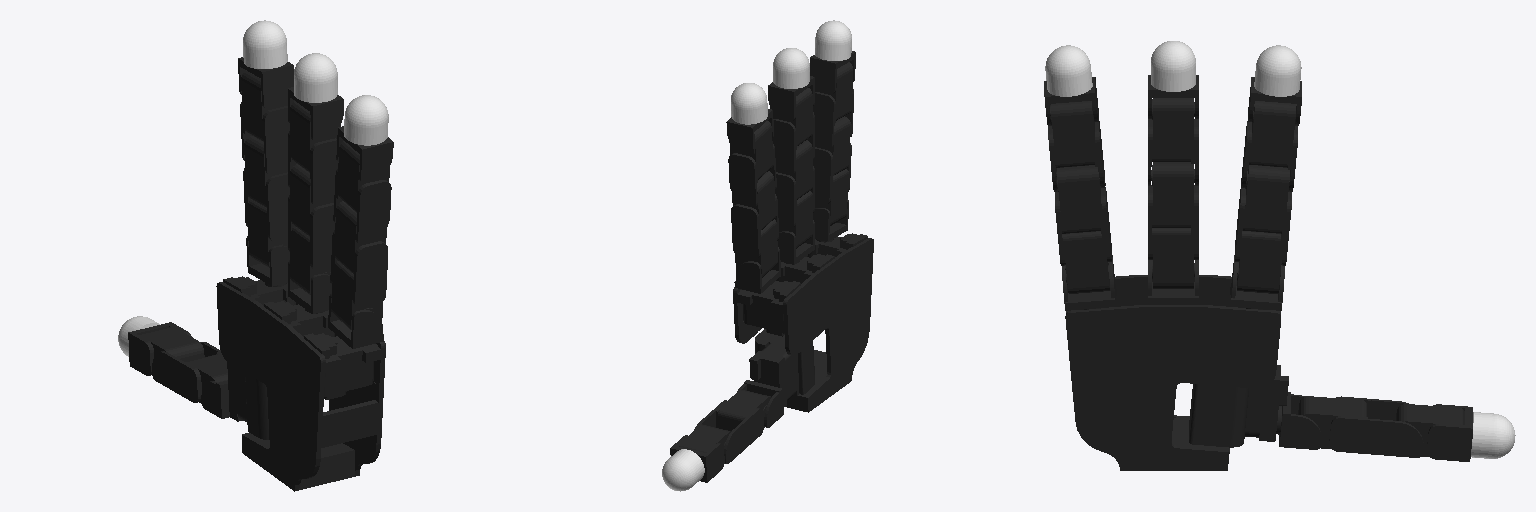
URDF robot description (allegro):
<?xml version="1.0" ?>
<!-- =================================================================================== -->
<!-- |    This document was autogenerated by xacro from allegro_hand_description_right.xacro | -->
<!-- |    EDITING THIS FILE BY HAND IS NOT RECOMMENDED                                 | -->
<!-- =================================================================================== -->
<robot name="allegro" xmlns:xacro="http:/www.ros.org/wiki/xacro">
  <!-- ======================== BASE PARAMS ========================= -->
  <!-- ======================== FINGER PARAMS ======================== -->
  <!-- full height from joint to tip. when used,
    the radius of the finger tip sphere will be subtracted
    and one fixed link will be added for the tip. -->
  <!-- ========================= THUMB PARAMS ========================= -->
  <!-- ========================= LIMITS ========================= -->
  <!-- ============================================================================= -->
  <!-- PALM -->
  <link name="palm_link">
    <visual>
      <geometry>
        <mesh filename="meshes/base_link.obj"/>
      </geometry>
      <origin rpy="0 0 0" xyz="0 0 0 "/>
      <material name="black">
        <color rgba="0.2 0.2 0.2 1"/>
      </material>
    </visual>
    <!-- <collision>
      <origin rpy="0 0 0" xyz="-0.009300 0 -0.0475"/>
      <geometry>
        <box size="0.0408 0.1130 0.095"/>
      </geometry>
    </collision> -->
    <inertial>
      <origin rpy="0 0 0" xyz="0 0 0.0475"/>
      <mass value="0.4154"/>
      <inertia ixx="1e-4" ixy="0.0" ixz="0.0" iyy="1e-4" iyz="0.0" izz="1e-4"/>
    </inertial>
  </link>
  <!-- ============================================================================= -->
  <!-- FINGERS -->
  <!-- RIGHT HAND due to which finger is number 0 -->
  <!-- for LEFT HAND switch the sign of the **offset_origin_y** and **finger_angle_r** parameters-->
  <!-- [LINK 0, 4, 8] -->
  <link name="link_0.0">
    <visual>
      <geometry>
        <mesh filename="meshes/link_0.0.obj"/>
      </geometry>
      <material name="black"/>
    </visual>
    <!-- <collision>
      <geometry>
        <box size="0.0196 0.0275 0.0164"/>
      </geometry>
      <origin rpy="0 0 0" xyz="0 0 0.0082"/>
    </collision> -->
    <inertial>
      <mass value="0.0119"/>
      <origin rpy="0 0 0" xyz="0 0 0"/>
      <inertia ixx="1.01666658333e-06" ixy="0.0" ixz="0.0" iyy="6.47677333333e-07" iyz="0.0" izz="1.01666658333e-06"/>
    </inertial>
  </link>
  <joint name="joint_0.0" type="revolute">
    <axis xyz="0 0 1"/>
    <limit effort="15" lower="-0.47" upper="0.47" velocity="7"/>
    <parent link="palm_link"/>
    <child link="link_0.0"/>
    <origin rpy="-0.08726646255 0 0" xyz="0 0.0435 -0.001542"/>
    <dynamics damping="3" friction="10"/>
  </joint>
  <!-- [LINK 1, 5, 9] -->
  <link name="link_1.0">
    <visual>
      <geometry>
        <mesh filename="meshes/link_1.0.obj"/>
      </geometry>
      <material name="black"/>
    </visual>
    <!-- <collision>
      <geometry>
        <box size="0.0196 0.0275 0.054"/>
      </geometry>
      <origin rpy="0 0 0" xyz="0 0 0.027"/>
    </collision> -->
    <inertial>
      <mass value="0.065"/>
      <origin rpy="0 0 0" xyz="0 0 0"/>
      <inertia ixx="7.95654166667e-05" ixy="1.7199e-05" ixz="8.75875e-06" iyy="2.47088833333e-05" iyz="2.413125e-05" izz="7.95654166667e-05"/>
    </inertial>
  </link>
  <joint name="joint_1.0" type="revolute">
    <limit effort="15" lower="-0.196" upper="1.61" velocity="7"/>
    <axis xyz="0 1 0"/>
    <parent link="link_0.0"/>
    <child link="link_1.0"/>
    <origin xyz="0 0 0.0164"/>
    <dynamics damping="3" friction="5"/>
  </joint>
  <!-- [LINK 2, 6, 10]-->
  <link name="link_2.0">
    <visual>
      <geometry>
        <mesh filename="meshes/link_2.0.obj"/>
      </geometry>
      <material name="black"/>
    </visual>
    <!-- <collision>
      <geometry>
        <box size="0.0196 0.0275 0.0384"/>
      </geometry>
      <origin rpy="0 0 0" xyz="0 0 0.0192"/>
    </collision> -->
    <inertial>
      <mass value="0.0355"/>
      <origin rpy="0 0 0" xyz="0 0 0"/>
      <inertia ixx="2.63979183333e-05" ixy="6.67968e-06" ixz="4.783625e-06" iyy="1.34948516667e-05" iyz="9.372e-06" izz="2.63979183333e-05"/>
    </inertial>
  </link>
  <joint name="joint_2.0" type="revolute">
    <axis xyz="0 1 0"/>
    <limit effort="15" lower="-0.174" upper="1.709" velocity="7"/>
    <parent link="link_1.0"/>
    <child link="link_2.0"/>
    <origin xyz="0 0 0.054"/>
    <dynamics damping="8" friction="10"/>
  </joint>
  <!-- [LINK 3, 7, 11] -->
  <link name="link_3.0">
    <visual>
      <geometry>
        <mesh filename="meshes/link_3.0.obj"/>
      </geometry>
      <material name="black"/>
    </visual>
    <!-- <collision>
      <geometry>
        <box size="0.0196 0.0275 0.0267"/>
      </geometry>
      <origin rpy="0 0 0" xyz="0 0 0.01335"/>
    </collision> -->
    <inertial>
      <mass value="0.0096"/>
      <origin rpy="0 0 0" xyz="0 0 0"/>
      <inertia ixx="4.701248e-06" ixy="1.255968e-06" ixz="1.2936e-06" iyy="3.649312e-06" iyz="1.7622e-06" izz="4.701248e-06"/>
    </inertial>
  </link>
  <joint name="joint_3.0" type="revolute">
    <axis xyz="0 1 0"/>
    <limit effort="15" lower="-0.227" upper="1.618" velocity="7"/>
    <parent link="link_2.0"/>
    <child link="link_3.0"/>
    <origin xyz="0 0 0.0384"/>
    <dynamics damping="10" friction="12"/>
  </joint>
  <!-- [FINGER TIP] -->
  <link name="link_3.0_tip">
    <visual>
      <geometry>
        <mesh filename="meshes/link_3.0_tip.obj"/>
      </geometry>
      <material name="white">
        <color rgba=".9 .9 .9 1"/>
      </material>
    </visual>
    <!-- <collision>
      <geometry>
        <sphere radius="0.012"/>
      </geometry>
    </collision> -->
    <inertial>
      <mass value="0.0168"/>
      <origin rpy="0 0 0" xyz="0 0 0"/>
      <inertia ixx="9.68e-07" ixy="0" ixz="0" iyy="9.68e-07" iyz="0" izz="9.68e-07"/>
    </inertial>
  </link>
  <joint name="joint_3.0_tip" type="fixed">
    <parent link="link_3.0"/>
    <child link="link_3.0_tip"/>
    <origin rpy="0 0 0" xyz="0 0 0.0267"/>
  </joint>
  <!-- [LINK 0, 4, 8] -->
  <link name="link_4.0">
    <visual>
      <geometry>
        <mesh filename="meshes/link_0.0.obj"/>
      </geometry>
      <material name="black"/>
    </visual>
    <!-- <collision>
      <geometry>
        <box size="0.0196 0.0275 0.0164"/>
      </geometry>
      <origin rpy="0 0 0" xyz="0 0 0.0082"/>
    </collision> -->
    <inertial>
      <mass value="0.0119"/>
      <origin rpy="0 0 0" xyz="0 0 0"/>
      <inertia ixx="1.01666658333e-06" ixy="0.0" ixz="0.0" iyy="6.47677333333e-07" iyz="0.0" izz="1.01666658333e-06"/>
    </inertial>
  </link>
  <joint name="joint_4.0" type="revolute">
    <axis xyz="0 0 1"/>
    <limit effort="15" lower="-0.47" upper="0.47" velocity="7"/>
    <parent link="palm_link"/>
    <child link="link_4.0"/>
    <origin rpy="0.0 0 0" xyz="0 0 0.0007"/>
    <dynamics damping="3" friction="10"/>
  </joint>
  <!-- [LINK 1, 5, 9] -->
  <link name="link_5.0">
    <visual>
      <geometry>
        <mesh filename="meshes/link_1.0.obj"/>
      </geometry>
      <material name="black"/>
    </visual>
    <!-- <collision>
      <geometry>
        <box size="0.0196 0.0275 0.054"/>
      </geometry>
      <origin rpy="0 0 0" xyz="0 0 0.027"/>
    </collision> -->
    <inertial>
      <mass value="0.065"/>
      <origin rpy="0 0 0" xyz="0 0 0"/>
      <inertia ixx="7.95654166667e-05" ixy="1.7199e-05" ixz="8.75875e-06" iyy="2.47088833333e-05" iyz="2.413125e-05" izz="7.95654166667e-05"/>
    </inertial>
  </link>
  <joint name="joint_5.0" type="revolute">
    <limit effort="15" lower="-0.196" upper="1.61" velocity="7"/>
    <axis xyz="0 1 0"/>
    <parent link="link_4.0"/>
    <child link="link_5.0"/>
    <origin xyz="0 0 0.0164"/>
    <dynamics damping="3" friction="5"/>
  </joint>
  <!-- [LINK 2, 6, 10]-->
  <link name="link_6.0">
    <visual>
      <geometry>
        <mesh filename="meshes/link_2.0.obj"/>
      </geometry>
      <material name="black"/>
    </visual>
    <!-- <collision>
      <geometry>
        <box size="0.0196 0.0275 0.0384"/>
      </geometry>
      <origin rpy="0 0 0" xyz="0 0 0.0192"/>
    </collision> -->
    <inertial>
      <mass value="0.0355"/>
      <origin rpy="0 0 0" xyz="0 0 0"/>
      <inertia ixx="2.63979183333e-05" ixy="6.67968e-06" ixz="4.783625e-06" iyy="1.34948516667e-05" iyz="9.372e-06" izz="2.63979183333e-05"/>
    </inertial>
  </link>
  <joint name="joint_6.0" type="revolute">
    <axis xyz="0 1 0"/>
    <limit effort="15" lower="-0.174" upper="1.709" velocity="7"/>
    <parent link="link_5.0"/>
    <child link="link_6.0"/>
    <origin xyz="0 0 0.054"/>
    <dynamics damping="8" friction="10"/>
  </joint>
  <!-- [LINK 3, 7, 11] -->
  <link name="link_7.0">
    <visual>
      <geometry>
        <mesh filename="meshes/link_3.0.obj"/>
      </geometry>
      <material name="black"/>
    </visual>
    <!-- <collision>
      <geometry>
        <box size="0.0196 0.0275 0.0267"/>
      </geometry>
      <origin rpy="0 0 0" xyz="0 0 0.01335"/>
    </collision> -->
    <inertial>
      <mass value="0.0096"/>
      <origin rpy="0 0 0" xyz="0 0 0"/>
      <inertia ixx="4.701248e-06" ixy="1.255968e-06" ixz="1.2936e-06" iyy="3.649312e-06" iyz="1.7622e-06" izz="4.701248e-06"/>
    </inertial>
  </link>
  <joint name="joint_7.0" type="revolute">
    <axis xyz="0 1 0"/>
    <limit effort="15" lower="-0.227" upper="1.618" velocity="7"/>
    <parent link="link_6.0"/>
    <child link="link_7.0"/>
    <origin xyz="0 0 0.0384"/>
    <dynamics damping="10" friction="12"/>
  </joint>
  <!-- [FINGER TIP] -->
  <link name="link_7.0_tip">
    <visual>
      <geometry>
        <mesh filename="meshes/link_3.0_tip.obj"/>
      </geometry>
      <material name="white">
        <color rgba=".9 .9 .9 1"/>
      </material>
    </visual>
    <!-- <collision>
      <geometry>
        <sphere radius="0.012"/>
      </geometry>
    </collision> -->
    <inertial>
      <mass value="0.0168"/>
      <origin rpy="0 0 0" xyz="0 0 0"/>
      <inertia ixx="9.68e-07" ixy="0" ixz="0" iyy="9.68e-07" iyz="0" izz="9.68e-07"/>
    </inertial>
  </link>
  <joint name="joint_7.0_tip" type="fixed">
    <parent link="link_7.0"/>
    <child link="link_7.0_tip"/>
    <origin rpy="0 0 0" xyz="0 0 0.0267"/>
  </joint>
  <!-- [LINK 0, 4, 8] -->
  <link name="link_8.0">
    <visual>
      <geometry>
        <mesh filename="meshes/link_0.0.obj"/>
      </geometry>
      <material name="black"/>
    </visual>
    <!-- <collision>
      <geometry>
        <box size="0.0196 0.0275 0.0164"/>
      </geometry>
      <origin rpy="0 0 0" xyz="0 0 0.0082"/>
    </collision> -->
    <inertial>
      <mass value="0.0119"/>
      <origin rpy="0 0 0" xyz="0 0 0"/>
      <inertia ixx="1.01666658333e-06" ixy="0.0" ixz="0.0" iyy="6.47677333333e-07" iyz="0.0" izz="1.01666658333e-06"/>
    </inertial>
  </link>
  <joint name="joint_8.0" type="revolute">
    <axis xyz="0 0 1"/>
    <limit effort="15" lower="-0.47" upper="0.47" velocity="7"/>
    <parent link="palm_link"/>
    <child link="link_8.0"/>
    <origin rpy="0.08726646255 0 0" xyz="0 -0.0435 -0.001542"/>
    <dynamics damping="3" friction="10"/>
  </joint>
  <!-- [LINK 1, 5, 9] -->
  <link name="link_9.0">
    <visual>
      <geometry>
        <mesh filename="meshes/link_1.0.obj"/>
      </geometry>
      <material name="black"/>
    </visual>
    <!-- <collision>
      <geometry>
        <box size="0.0196 0.0275 0.054"/>
      </geometry>
      <origin rpy="0 0 0" xyz="0 0 0.027"/>
    </collision> -->
    <inertial>
      <mass value="0.065"/>
      <origin rpy="0 0 0" xyz="0 0 0"/>
      <inertia ixx="7.95654166667e-05" ixy="1.7199e-05" ixz="8.75875e-06" iyy="2.47088833333e-05" iyz="2.413125e-05" izz="7.95654166667e-05"/>
    </inertial>
  </link>
  <joint name="joint_9.0" type="revolute">
    <limit effort="15" lower="-0.196" upper="1.61" velocity="7"/>
    <axis xyz="0 1 0"/>
    <parent link="link_8.0"/>
    <child link="link_9.0"/>
    <origin xyz="0 0 0.0164"/>
    <dynamics damping="3" friction="5"/>
  </joint>
  <!-- [LINK 2, 6, 10]-->
  <link name="link_10.0">
    <visual>
      <geometry>
        <mesh filename="meshes/link_2.0.obj"/>
      </geometry>
      <material name="black"/>
    </visual>
    <!-- <collision>
      <geometry>
        <box size="0.0196 0.0275 0.0384"/>
      </geometry>
      <origin rpy="0 0 0" xyz="0 0 0.0192"/>
    </collision> -->
    <inertial>
      <mass value="0.0355"/>
      <origin rpy="0 0 0" xyz="0 0 0"/>
      <inertia ixx="2.63979183333e-05" ixy="6.67968e-06" ixz="4.783625e-06" iyy="1.34948516667e-05" iyz="9.372e-06" izz="2.63979183333e-05"/>
    </inertial>
  </link>
  <joint name="joint_10.0" type="revolute">
    <axis xyz="0 1 0"/>
    <limit effort="15" lower="-0.174" upper="1.709" velocity="7"/>
    <parent link="link_9.0"/>
    <child link="link_10.0"/>
    <origin xyz="0 0 0.054"/>
    <dynamics damping="8" friction="10"/>
  </joint>
  <!-- [LINK 3, 7, 11] -->
  <link name="link_11.0">
    <visual>
      <geometry>
        <mesh filename="meshes/link_3.0.obj"/>
      </geometry>
      <material name="black"/>
    </visual>
    <!-- <collision>
      <geometry>
        <box size="0.0196 0.0275 0.0267"/>
      </geometry>
      <origin rpy="0 0 0" xyz="0 0 0.01335"/>
    </collision> -->
    <inertial>
      <mass value="0.0096"/>
      <origin rpy="0 0 0" xyz="0 0 0"/>
      <inertia ixx="4.701248e-06" ixy="1.255968e-06" ixz="1.2936e-06" iyy="3.649312e-06" iyz="1.7622e-06" izz="4.701248e-06"/>
    </inertial>
  </link>
  <joint name="joint_11.0" type="revolute">
    <axis xyz="0 1 0"/>
    <limit effort="15" lower="-0.227" upper="1.618" velocity="7"/>
    <parent link="link_10.0"/>
    <child link="link_11.0"/>
    <origin xyz="0 0 0.0384"/>
    <dynamics damping="10" friction="12"/>
  </joint>
  <!-- [FINGER TIP] -->
  <link name="link_11.0_tip">
    <visual>
      <geometry>
        <mesh filename="meshes/link_3.0_tip.obj"/>
      </geometry>
      <material name="white">
        <color rgba=".9 .9 .9 1"/>
      </material>
    </visual>
    <!-- <collision>
      <geometry>
        <sphere radius="0.012"/>
      </geometry>
    </collision> -->
    <inertial>
      <mass value="0.0168"/>
      <origin rpy="0 0 0" xyz="0 0 0"/>
      <inertia ixx="9.68e-07" ixy="0" ixz="0" iyy="9.68e-07" iyz="0" izz="9.68e-07"/>
    </inertial>
  </link>
  <joint name="joint_11.0_tip" type="fixed">
    <parent link="link_11.0"/>
    <child link="link_11.0_tip"/>
    <origin rpy="0 0 0" xyz="0 0 0.0267"/>
  </joint>
  <!-- THUMB -->
  <!-- [LINK 12] -->
  <link name="link_12.0">
    <visual>
      <geometry>
        <mesh filename="meshes/link_12.0_right.obj"/>
      </geometry>
      <material name="black">
        <color rgba=".2 .2 .2 1"/>
      </material>
      <origin rpy="0 0 0" xyz="0 0 0"/>
    </visual>
    <!-- <collision>
      <geometry>
        <box size="0.0358 0.034 0.0455"/>
      </geometry>
      <origin rpy="0 0 0" xyz="-0.0179 0.009 0.0145"/>
    </collision> -->
    <inertial>
      <mass value="0.0176"/>
      <origin rpy="0 0 0" xyz="0 0 0"/>
      <inertia ixx="1.89273333333e-5" ixy="7.16716e-06" ixz="5.35568e-06" iyy="1.43008213333e-05" iyz="6.8068e-06" izz="1.89273333333e-05"/>
    </inertial>
  </link>
  <joint name="joint_12.0" type="revolute">
    <!-- <axis xyz="-1 0 0"/> -->
    <!-- <limit effort="15" lower="0.263" upper="1.396" velocity="7"/> -->
    <axis xyz="1 0 0"/>
    <limit effort="15" lower="-1.396" upper="0.0" velocity="7"/>
    <parent link="palm_link"/>
    <child link="link_12.0"/>
    <origin rpy="0 -1.65806278845 -1.5707963259" xyz="-0.0182 0.019333 -0.045987"/>
    <dynamics damping="3" friction="10"/>
  </joint>
  <!-- [LINK 13] -->
  <link name="link_13.0">
    <visual>
      <geometry>
        <mesh filename="meshes/link_13.0.obj"/>
      </geometry>
      <material name="black">
        <color rgba=".2 .2 .2 1"/>
      </material>
    </visual>
    <!-- <collision>
      <geometry>
        <box size="0.0196 0.0275 0.0177"/>
      </geometry>
      <origin rpy="0 0 0" xyz="0 0 0.00885"/>
    </collision> -->
    <inertial>
      <mass value="0.0119"/>
      <origin rpy="0 0 0" xyz="0 0 0"/>
      <inertia ixx="4.24250866667e-06" ixy="1.032087e-06" ixz="1.603525e-06" iyy="4.52362633333e-06" iyz="1.44808125e-06" izz="4.24250866667e-06"/>
    </inertial>
  </link>
  <joint name="joint_13.0" type="revolute">
    <axis xyz="0 0 1"/>
    <limit effort="15" lower="-0.105" upper="1.163" velocity="7"/>
    <parent link="link_12.0"/>
    <child link="link_13.0"/>
    <origin xyz="-0.027 0.005 0.0399"/>
    <dynamics damping="3" friction="5"/>
  </joint>
  <!-- [LINK 14] -->
  <link name="link_14.0">
    <visual>
      <geometry>
        <mesh filename="meshes/link_14.0.obj"/>
      </geometry>
      <material name="black">
                </material>
    </visual>
    <!-- <collision>
      <geometry>
        <box size="0.0196 0.0275 0.0514"/>
      </geometry>
      <origin rpy="0 0 0" xyz="0 0 0.0257"/>
    </collision> -->
    <inertial>
      <mass value="0.038"/>
      <origin rpy="0 0 0" xyz="0 0 0"/>
      <inertia ixx="4.30439933333e-05" ixy="9.57068e-06" ixz="5.1205e-06" iyy="1.44451933333e-05" iyz="1.342825e-05" izz="4.30439933333e-05"/>
    </inertial>
  </link>
  <joint name="joint_14.0" type="revolute">
    <axis xyz="0 1 0"/>
    <limit effort="15" lower="-0.189" upper="1.644" velocity="7"/>
    <parent link="link_13.0"/>
    <child link="link_14.0"/>
    <origin xyz="0 0 0.0177"/>
    <dynamics damping="3" friction="10"/>
  </joint>
  <!-- [LINK 15] -->
  <link name="link_15.0">
    <visual>
      <geometry>
        <mesh filename="meshes/link_15.0.obj"/>
      </geometry>
      <material name="black">
                </material>
    </visual>
    <!-- <collision>
      <geometry>
        <box size="0.0196 0.0275 0.0423"/>
      </geometry>
      <origin rpy="0 0 0" xyz="0 0 0.02115"/>
    </collision> -->
    <inertial>
      <mass value="0.0388"/>
      <origin rpy="0 0 0" xyz="0 0 0"/>
      <inertia ixx="3.29223173333e-05" ixy="8.042076e-06" ixz="5.2283e-06" iyy="1.47493026667e-5" iyz="1.1283525e-5" izz="3.29223173333e-05"/>
    </inertial>
  </link>
  <joint name="joint_15.0" type="revolute">
    <axis xyz="0 1 0"/>
    <limit effort="15" lower="-0.162" upper="1.719" velocity="7"/>
    <parent link="link_14.0"/>
    <child link="link_15.0"/>
    <origin xyz="0 0 0.0514"/>
    <dynamics damping="3" friction="12"/>
  </joint>
  <!-- [FINGER TIP] -->
  <link name="link_15.0_tip">
    <visual>
      <geometry>
        <mesh filename="meshes/link_15.0_tip.obj"/>
      </geometry>
      <material name="white">
        <color rgba=".9 .9 .9 1"/>
      </material>
    </visual>
    <!-- <collision>
      <geometry>
        <sphere radius="0.012"/>
      </geometry>
      <origin rpy="0 0 0" xyz="0 0 0"/>
    </collision> -->
    <inertial>
      <mass value="0.0168"/>
      <origin rpy="0 0 0" xyz="0 0 0"/>
      <inertia ixx="9.68e-07" ixy="0" ixz="0" iyy="9.68e-07" iyz="0" izz="9.68e-07"/>
    </inertial>
  </link>
  <joint name="joint_15.0_tip" type="fixed">
    <parent link="link_15.0"/>
    <child link="link_15.0_tip"/>
    <origin rpy="0 0 0" xyz="0 0 0.0423"/>
  </joint>
  <!-- ============================================================================= -->
  <!-- THUMB MACRO -->
  <!-- END THUMB MACRO -->
  <!-- THREE FINGER MACRO -->
  <!-- [[END]] THREE FINGER MACRO -->
</robot>

--- Render facts (derived) ---
3 views of the same robot in one strip: view 1: azimuth 30°, elevation 25°; view 2: azimuth 150°, elevation 25°; view 3: azimuth 270°, elevation 25° (orthographic).
Robot: allegro — 21 links, 20 joints (16 revolute, 4 fixed); root link palm_link; default pose: every joint at zero.
Visible links, largest first — view 1: palm_link, link_9.0, link_1.0, link_5.0, link_10.0, link_2.0, link_6.0, link_14.0, link_15.0, link_12.0, link_11.0_tip, link_7.0_tip (+9 smaller); view 2: palm_link, link_1.0, link_12.0, link_5.0, link_9.0, link_14.0, link_2.0, link_6.0, link_10.0, link_15.0, link_15.0_tip, link_3.0_tip (+9 smaller); view 3: palm_link, link_1.0, link_9.0, link_5.0, link_14.0, link_12.0, link_10.0, link_2.0, link_6.0, link_15.0, link_3.0_tip, link_11.0_tip (+9 smaller).
Link boxes in pixels (left/top/right/bottom): palm_link: left=216, top=276, right=385, bottom=491; link_9.0: left=330, top=201, right=387, bottom=329; link_1.0: left=243, top=136, right=289, bottom=267; link_5.0: left=288, top=164, right=334, bottom=294; link_10.0: left=333, top=141, right=391, bottom=244; link_2.0: left=240, top=70, right=289, bottom=174; link_6.0: left=288, top=101, right=340, bottom=205; link_14.0: left=152, top=342, right=227, bottom=403; link_15.0: left=128, top=322, right=204, bottom=375; link_12.0: left=227, top=362, right=268, bottom=439; link_11.0_tip: left=344, top=95, right=388, bottom=145; link_7.0_tip: left=294, top=53, right=337, bottom=102; palm_link: left=733, top=233, right=873, bottom=412; link_1.0: left=731, top=171, right=778, bottom=277; link_12.0: left=749, top=329, right=814, bottom=406; link_5.0: left=775, top=140, right=814, bottom=248; link_9.0: left=813, top=116, right=851, bottom=225; link_14.0: left=694, top=389, right=771, bottom=463; link_2.0: left=728, top=121, right=776, bottom=207; link_6.0: left=770, top=88, right=814, bottom=174; link_10.0: left=813, top=62, right=853, bottom=148; link_15.0: left=670, top=424, right=731, bottom=482; link_15.0_tip: left=662, top=449, right=704, bottom=491; link_3.0_tip: left=731, top=83, right=767, bottom=124; palm_link: left=1065, top=275, right=1280, bottom=470; link_1.0: left=1235, top=165, right=1291, bottom=293; link_9.0: left=1055, top=165, right=1111, bottom=293; link_5.0: left=1148, top=162, right=1198, bottom=288; link_14.0: left=1298, top=396, right=1423, bottom=457; link_12.0: left=1189, top=365, right=1288, bottom=447; link_10.0: left=1048, top=101, right=1105, bottom=191; link_2.0: left=1241, top=101, right=1297, bottom=191; link_6.0: left=1148, top=98, right=1198, bottom=185; link_15.0: left=1396, top=404, right=1472, bottom=461; link_3.0_tip: left=1254, top=45, right=1301, bottom=96; link_11.0_tip: left=1045, top=45, right=1092, bottom=96.
Bounding box of the posed robot: 0.0415 × 0.2474 × 0.2463 m (x, y, z).
21 mesh visuals loaded from 11 distinct referenced files (11 OBJ).
